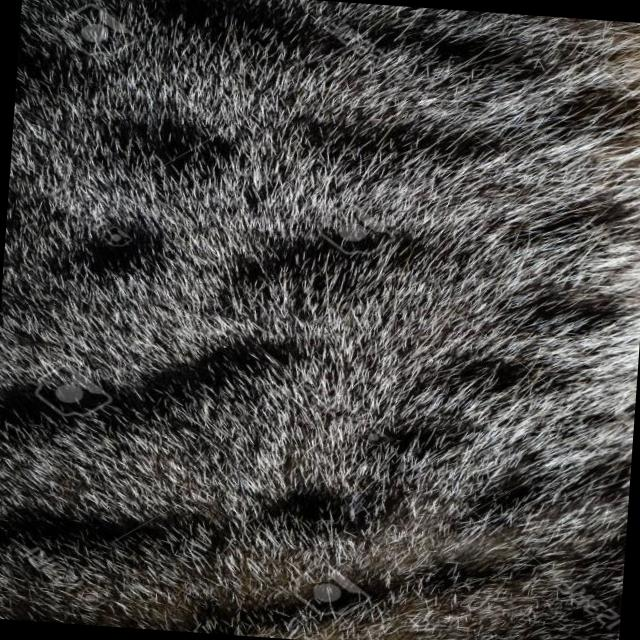Healthy skin: (8, 0, 348, 349), (347, 12, 640, 375), (270, 386, 626, 636), (0, 343, 241, 626)
